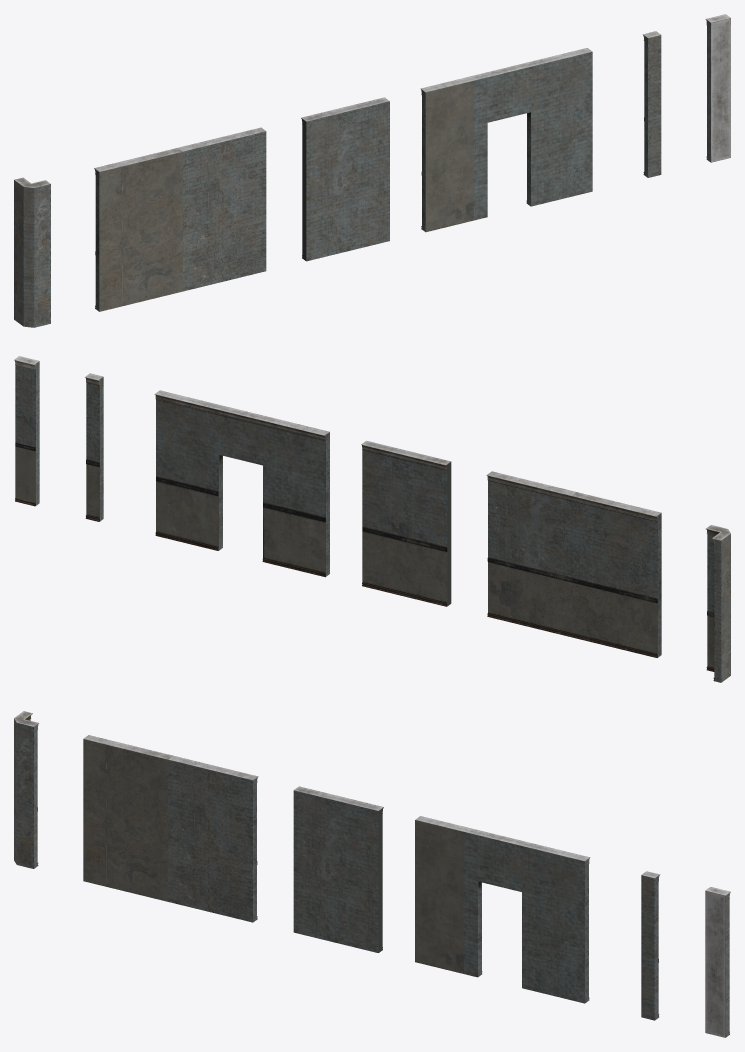
Rendered from wall_ready_for_construction.glb.
3 views of the same model, one above another, from view 1: azimuth 30°, elevation 25°; view 2: azimuth 150°, elevation 25°; view 3: azimuth 330°, elevation 25° (orthographic).
Visible parts, largest first — view 1: Null; view 2: Null; view 3: Null.
Boxes of the visible parts, <box> form: Null: <box>14,14,730,327</box>; Null: <box>14,356,730,682</box>; Null: <box>14,711,730,1037</box>.
Size of the model in its own units: 21.06 by 4 by 0.7002.
Materials: 6 (6 with a texture image).
